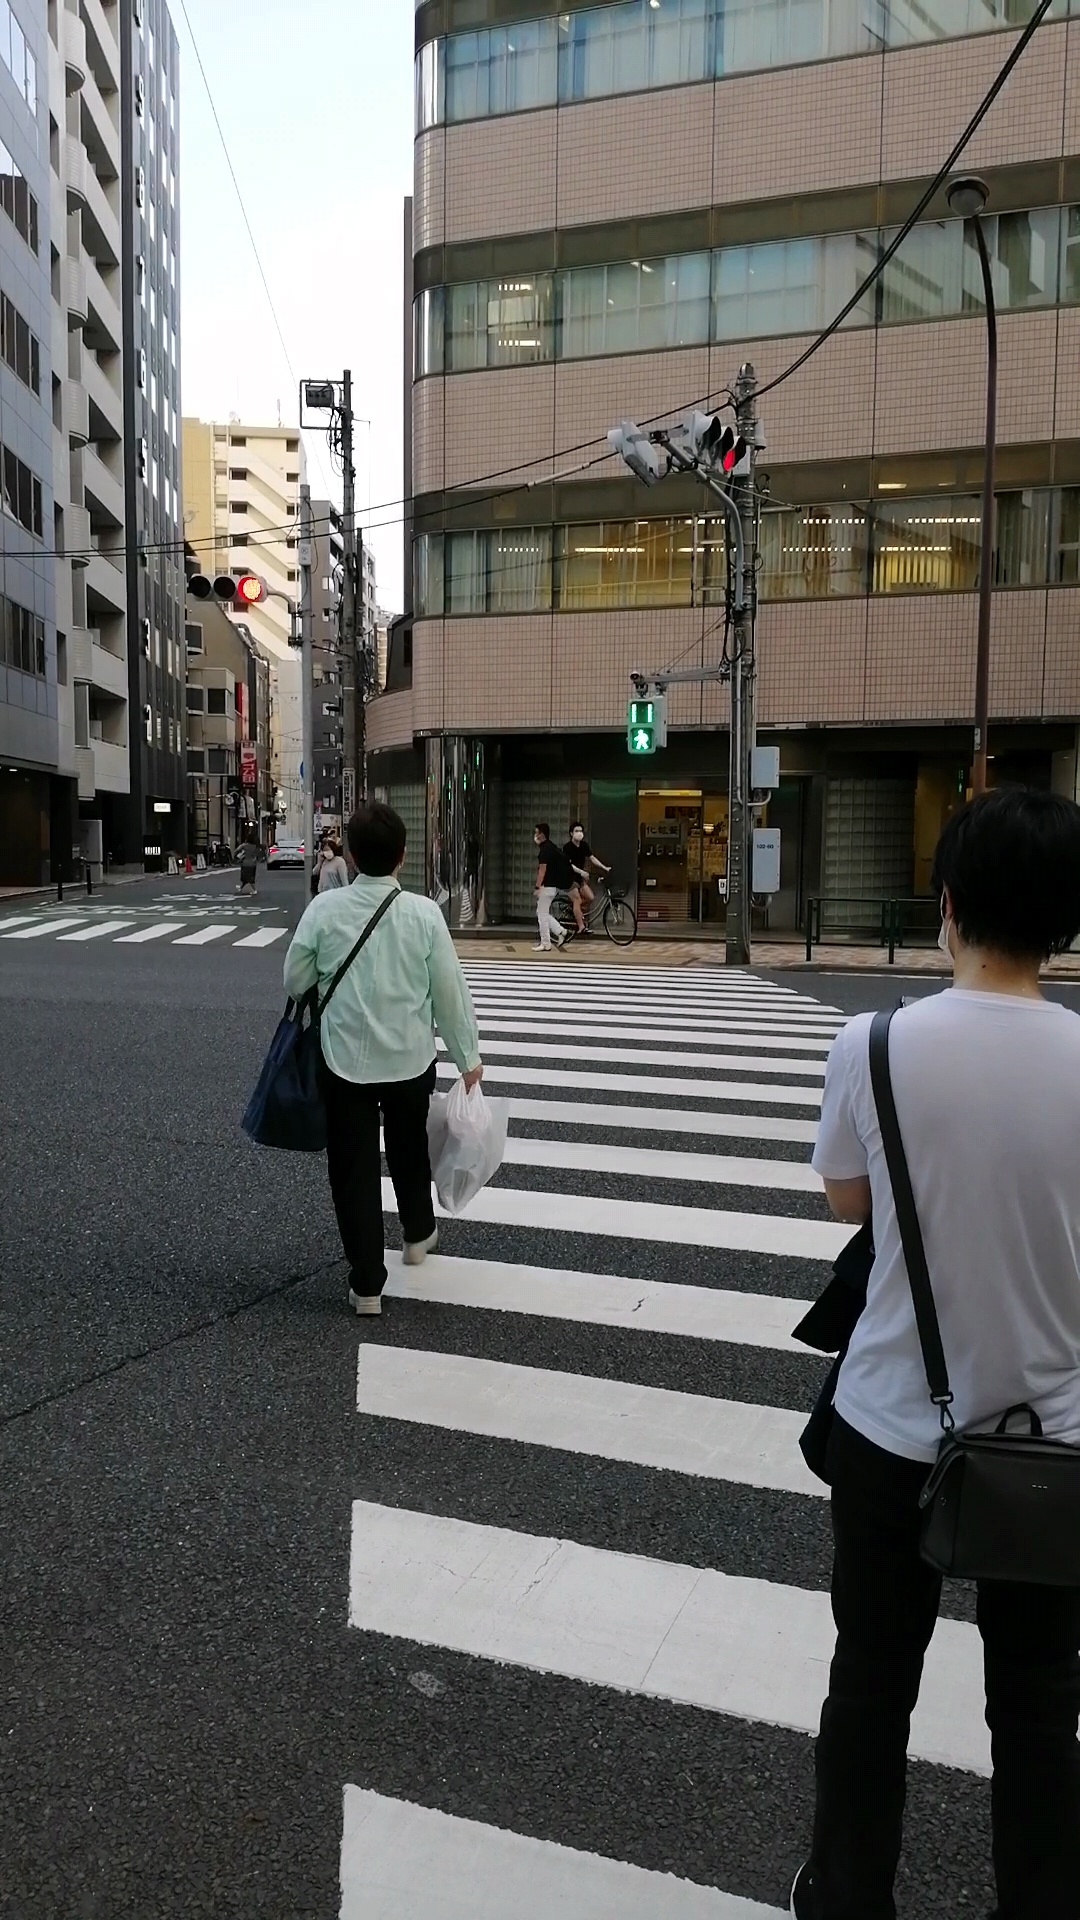green: (625, 698, 657, 754)
